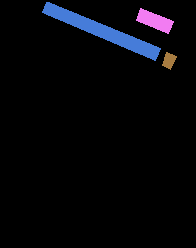parkingspot: (42, 2, 160, 60), (136, 8, 173, 33), (162, 52, 176, 69)
